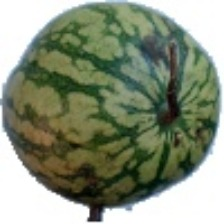watermelon: (20, 36, 162, 179)
